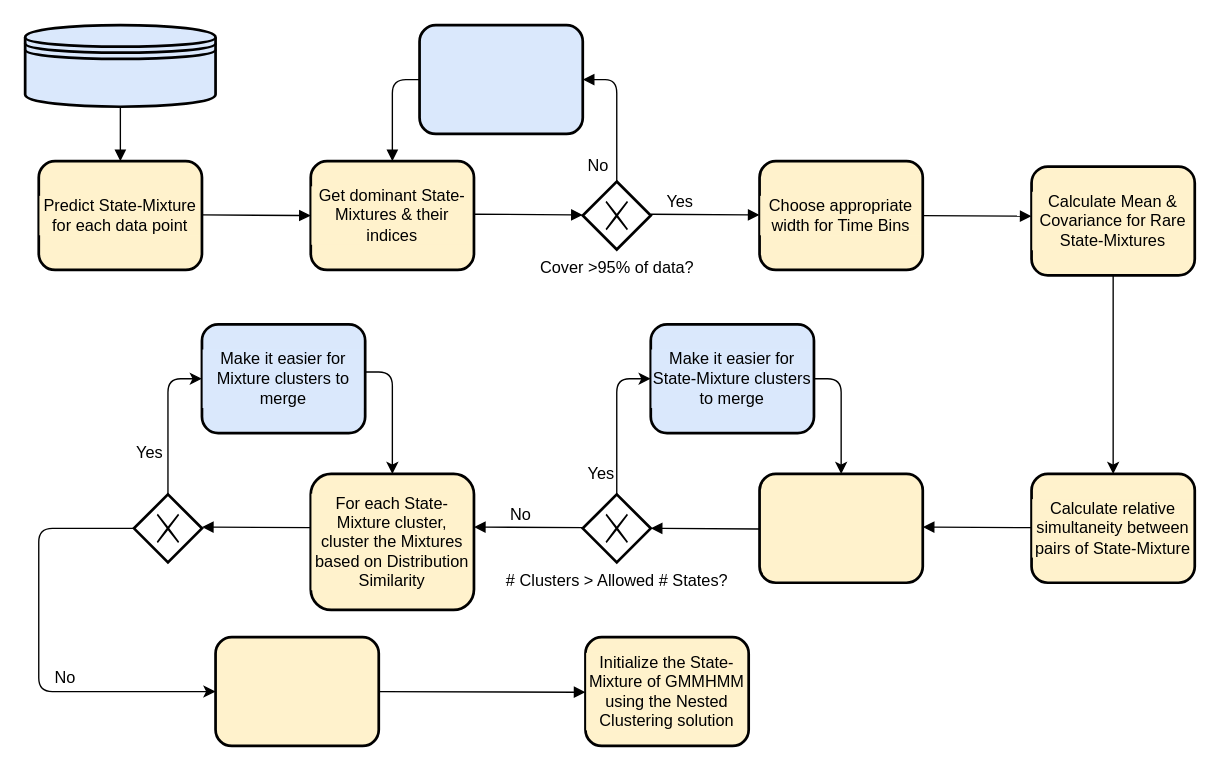
Some shapes in this 1219 by 770 pixel diagram are drawn without their labels. The shapes that lost their labels are listed below. From the top down, each one's centre as x and y in pixels, then its label:
the point at 119,65: GMMHMM fit & Data
the point at 500,79: Lower Frequency Threshold for Dominant State-Mixture
the point at 167,527: # Clusters > Allowed # Mixtures?
the point at 840,527: Cluster dominant State-Mixtures based on simultaneity
the point at 296,691: Set the weights for Rare State-Mixtures
